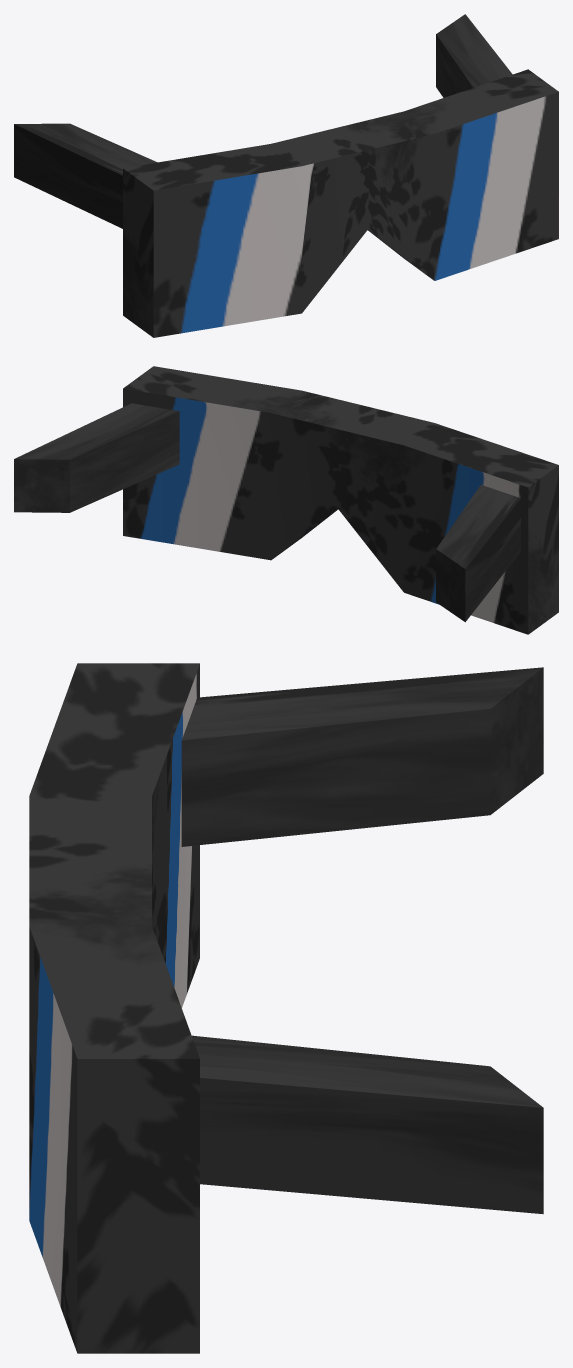
The model's file is oculos.fbx.
3 renders of one model, top to bottom at view 1: azimuth 30°, elevation 25°; view 2: azimuth 150°, elevation 25°; view 3: azimuth 270°, elevation 25°, orthographic. The views are drawn at different scales.
Visible parts, largest first — view 1: oculos; view 2: oculos; view 3: oculos.
Part boxes in pixels (<box>): oculos: <box>14,14,558,337</box>; oculos: <box>14,366,558,634</box>; oculos: <box>29,663,543,1353</box>.
Bounding box in the file's own units: 29.38 × 9.16 × 14.5.
